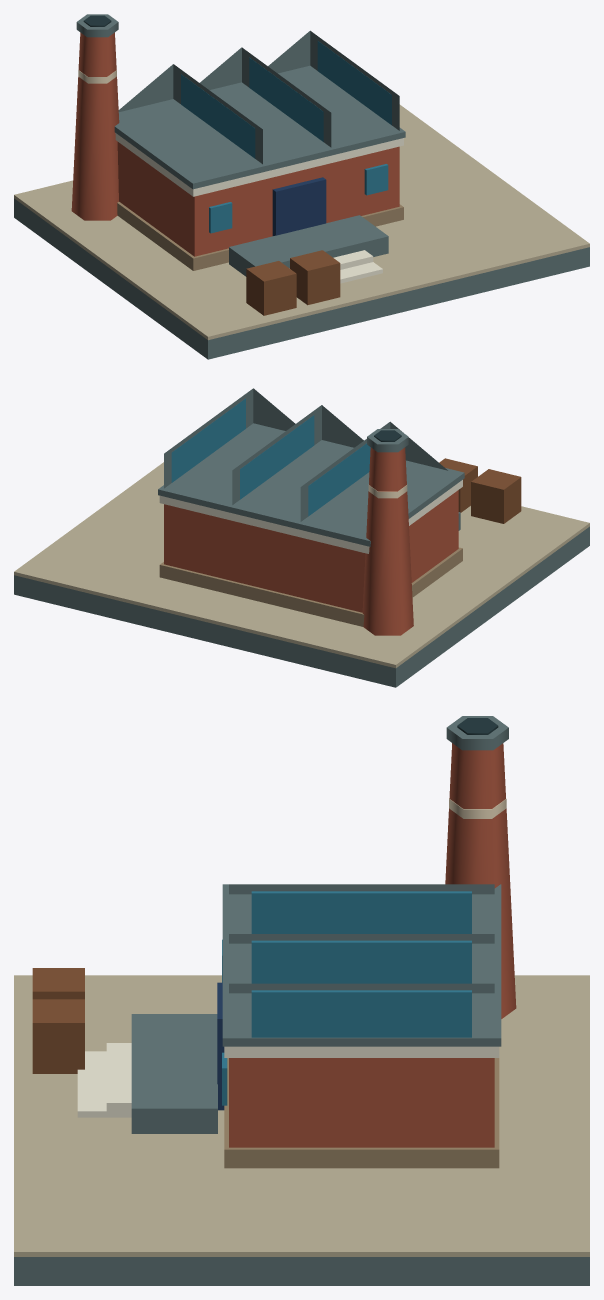
The model's file is factory-lv1.glb.
The picture shows the model from 3 angles, top to bottom: view 1: azimuth 30°, elevation 25°; view 2: azimuth 150°, elevation 25°; view 3: azimuth 270°, elevation 25°; orthographic projection. The views are drawn at different scales.
Parts seen in each view (by area): view 1: foundation_paving, main_workshop_roof_iron, main_workshop_clay, foundation_iron, chimney_clay, main_workshop_skylights_glass, main_workshop_sawtooth_iron, loading_platform_iron, supply_crates_wood, main_workshop_loading_door_naval, main_workshop_white, main_workshop_stoneDark (+3 smaller); view 2: foundation_paving, main_workshop_clay, main_workshop_roof_iron, foundation_iron, chimney_clay, main_workshop_skylights_glass, main_workshop_sawtooth_iron, main_workshop_stoneDark, supply_crates_wood, main_workshop_white, chimney_cap_iron; view 3: foundation_paving, main_workshop_skylights_glass, main_workshop_clay, foundation_iron, main_workshop_roof_iron, loading_platform_iron, chimney_clay, main_workshop_stoneDark, main_workshop_sawtooth_iron, supply_crates_wood, entrance_steps_white, main_workshop_white (+1 smaller).
Boxes of the visible parts, box(x1,y1,x2,y2) form: foundation_paving: box(14, 104, 589, 340); main_workshop_roof_iron: box(114, 65, 405, 189); main_workshop_clay: box(117, 142, 399, 256); foundation_iron: box(14, 198, 589, 359); chimney_clay: box(71, 32, 119, 220); main_workshop_skylights_glass: box(181, 41, 391, 158); main_workshop_sawtooth_iron: box(118, 30, 399, 164); loading_platform_iron: box(229, 215, 388, 276); supply_crates_wood: box(246, 250, 340, 315); main_workshop_loading_door_naval: box(272, 177, 326, 235); main_workshop_white: box(115, 133, 403, 196); main_workshop_stoneDark: box(117, 202, 403, 270); foundation_paving: box(14, 462, 589, 668); main_workshop_clay: box(164, 490, 458, 612); main_workshop_roof_iron: box(158, 423, 464, 546); foundation_iron: box(14, 526, 589, 687); chimney_clay: box(362, 447, 413, 635); main_workshop_skylights_glass: box(171, 398, 370, 516); main_workshop_sawtooth_iron: box(164, 388, 447, 521); main_workshop_stoneDark: box(159, 547, 462, 626); supply_crates_wood: box(439, 458, 521, 523); main_workshop_white: box(159, 480, 462, 553); chimney_cap_iron: box(367, 429, 408, 452); foundation_paving: box(14, 975, 589, 1256); main_workshop_skylights_glass: box(251, 891, 471, 1037); main_workshop_clay: box(229, 1058, 494, 1147); foundation_iron: box(14, 1257, 589, 1285); main_workshop_roof_iron: box(222, 884, 501, 1046); loading_platform_iron: box(131, 1014, 217, 1133); chimney_clay: box(445, 743, 516, 1018); main_workshop_stoneDark: box(224, 1058, 499, 1168); main_workshop_sawtooth_iron: box(229, 884, 494, 993); supply_crates_wood: box(32, 968, 84, 1073); entrance_steps_white: box(77, 1043, 131, 1117); main_workshop_white: box(224, 1046, 499, 1057).
Bounding box in the file's own units: 1 × 0.534 × 0.88.
